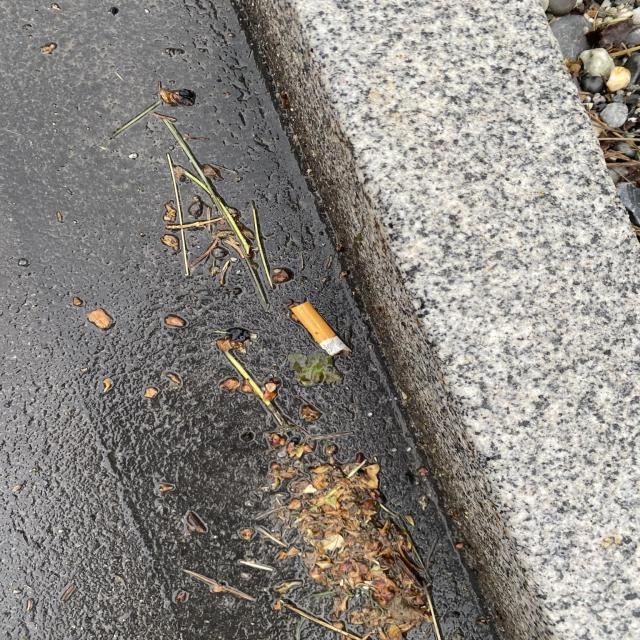other waste: (289, 300, 353, 358)
